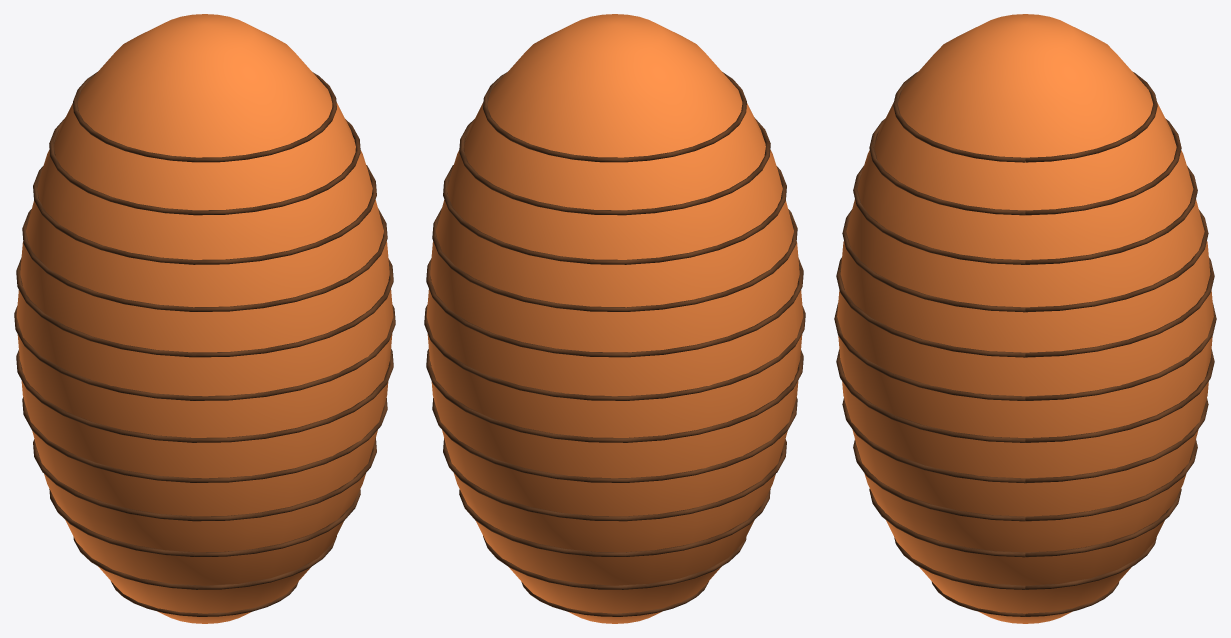
Rendered from tokyo-lantern.glb.
3 renders of one model, left to right at view 1: azimuth 30°, elevation 25°; view 2: azimuth 150°, elevation 25°; view 3: azimuth 270°, elevation 25°, orthographic.
Visible parts, largest first — view 1: tokyo-lantern/Ribbed red paper lantern, tokyo-lantern/Lantern bamboo ribs.007, tokyo-lantern/Lantern bamboo ribs.005, tokyo-lantern/Lantern bamboo ribs.008, tokyo-lantern/Lantern bamboo ribs.009, tokyo-lantern/Lantern bamboo ribs.006, tokyo-lantern/Lantern bamboo ribs.010, tokyo-lantern/Lantern bamboo ribs.004, tokyo-lantern/Lantern bamboo ribs.003, tokyo-lantern/Lantern bamboo ribs.011, tokyo-lantern/Lantern bamboo ribs.002, tokyo-lantern/Lantern bamboo ribs.001 (+1 smaller); view 2: tokyo-lantern/Ribbed red paper lantern, tokyo-lantern/Lantern bamboo ribs.007, tokyo-lantern/Lantern bamboo ribs.005, tokyo-lantern/Lantern bamboo ribs.008, tokyo-lantern/Lantern bamboo ribs.009, tokyo-lantern/Lantern bamboo ribs.006, tokyo-lantern/Lantern bamboo ribs.010, tokyo-lantern/Lantern bamboo ribs.004, tokyo-lantern/Lantern bamboo ribs.003, tokyo-lantern/Lantern bamboo ribs.011, tokyo-lantern/Lantern bamboo ribs.002, tokyo-lantern/Lantern bamboo ribs.001 (+1 smaller); view 3: tokyo-lantern/Ribbed red paper lantern, tokyo-lantern/Lantern bamboo ribs.007, tokyo-lantern/Lantern bamboo ribs.008, tokyo-lantern/Lantern bamboo ribs.005, tokyo-lantern/Lantern bamboo ribs.009, tokyo-lantern/Lantern bamboo ribs.006, tokyo-lantern/Lantern bamboo ribs.010, tokyo-lantern/Lantern bamboo ribs.004, tokyo-lantern/Lantern bamboo ribs.003, tokyo-lantern/Lantern bamboo ribs.011, tokyo-lantern/Lantern bamboo ribs.002, tokyo-lantern/Lantern bamboo ribs.001 (+1 smaller).
Boxes of the visible parts, box(x1,y1,x2,y2) form: tokyo-lantern/Ribbed red paper lantern: box(16, 14, 393, 623); tokyo-lantern/Lantern bamboo ribs.007: box(16, 257, 393, 357); tokyo-lantern/Lantern bamboo ribs.005: box(16, 348, 393, 442); tokyo-lantern/Lantern bamboo ribs.008: box(22, 208, 387, 311); tokyo-lantern/Lantern bamboo ribs.009: box(33, 165, 376, 264); tokyo-lantern/Lantern bamboo ribs.006: box(14, 304, 395, 400); tokyo-lantern/Lantern bamboo ribs.010: box(49, 117, 360, 215); tokyo-lantern/Lantern bamboo ribs.004: box(22, 397, 387, 482); tokyo-lantern/Lantern bamboo ribs.003: box(33, 438, 376, 521); tokyo-lantern/Lantern bamboo ribs.011: box(73, 72, 336, 162); tokyo-lantern/Lantern bamboo ribs.002: box(49, 489, 360, 556); tokyo-lantern/Lantern bamboo ribs.001: box(73, 536, 336, 589); tokyo-lantern/Ribbed red paper lantern: box(426, 14, 803, 623); tokyo-lantern/Lantern bamboo ribs.007: box(426, 257, 803, 357); tokyo-lantern/Lantern bamboo ribs.005: box(426, 348, 803, 442); tokyo-lantern/Lantern bamboo ribs.008: box(432, 208, 797, 311); tokyo-lantern/Lantern bamboo ribs.009: box(443, 165, 786, 264); tokyo-lantern/Lantern bamboo ribs.006: box(424, 304, 805, 400); tokyo-lantern/Lantern bamboo ribs.010: box(459, 117, 770, 215); tokyo-lantern/Lantern bamboo ribs.004: box(432, 397, 797, 482); tokyo-lantern/Lantern bamboo ribs.003: box(443, 438, 786, 521); tokyo-lantern/Lantern bamboo ribs.011: box(483, 72, 746, 162); tokyo-lantern/Lantern bamboo ribs.002: box(459, 489, 770, 556); tokyo-lantern/Lantern bamboo ribs.001: box(483, 536, 746, 589); tokyo-lantern/Ribbed red paper lantern: box(837, 14, 1213, 623); tokyo-lantern/Lantern bamboo ribs.007: box(836, 257, 1214, 357); tokyo-lantern/Lantern bamboo ribs.008: box(842, 210, 1208, 312); tokyo-lantern/Lantern bamboo ribs.005: box(836, 349, 1214, 442); tokyo-lantern/Lantern bamboo ribs.009: box(853, 166, 1197, 264); tokyo-lantern/Lantern bamboo ribs.006: box(834, 303, 1216, 400); tokyo-lantern/Lantern bamboo ribs.010: box(869, 118, 1181, 215); tokyo-lantern/Lantern bamboo ribs.004: box(842, 398, 1208, 483); tokyo-lantern/Lantern bamboo ribs.003: box(853, 440, 1197, 521); tokyo-lantern/Lantern bamboo ribs.011: box(893, 71, 1157, 162); tokyo-lantern/Lantern bamboo ribs.002: box(869, 488, 1181, 557); tokyo-lantern/Lantern bamboo ribs.001: box(894, 537, 1156, 589).
Bounding box in the file's own units: 0.365 × 0.62 × 0.365.
Materials: 2 (1 with a texture image).
